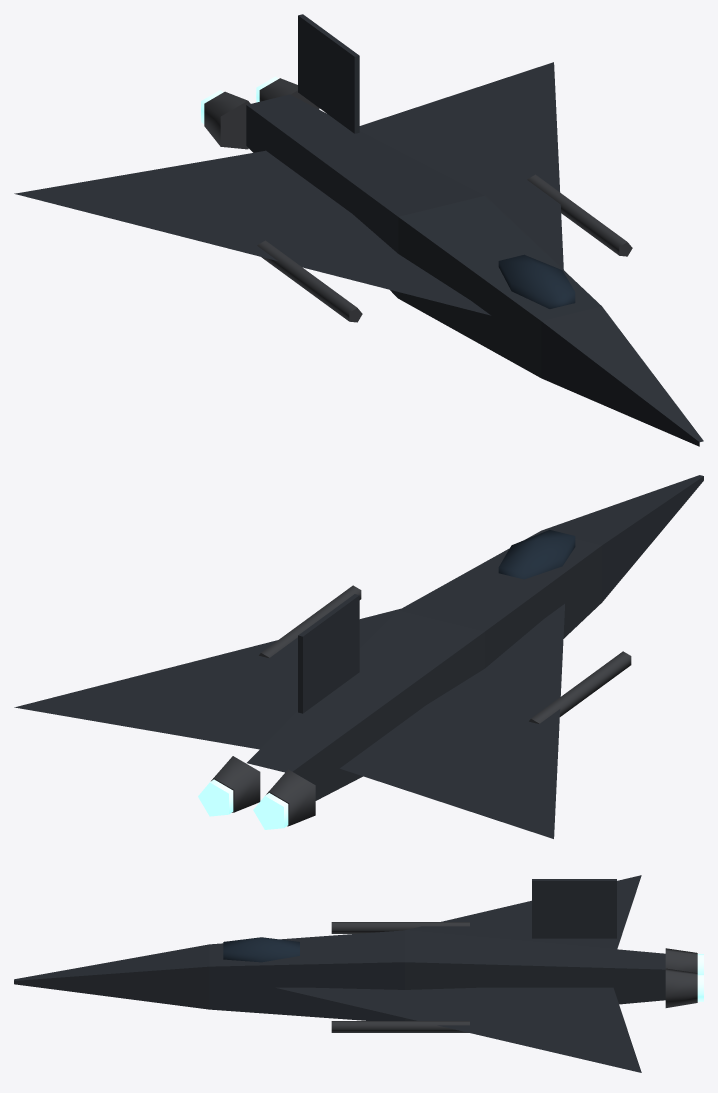
File: space_ship_interceptor_mk4_lod1.glb
3 views of the same model, one above another, from view 1: azimuth 30°, elevation 25°; view 2: azimuth 150°, elevation 25°; view 3: azimuth 270°, elevation 25° (orthographic). The views are drawn at different scales.
Visible parts, largest first — view 1: body, engine_0, gun_r, gun_l, engine_1; view 2: body, engine_1, engine_0, gun_r, gun_l; view 3: body, gun_l, engine_1, gun_r, engine_0.
Boxes of the visible parts, x1=… form: body: x1=14, y1=14, x2=703, y2=446; engine_0: x1=201, y1=90, x2=250, y2=149; gun_r: x1=257, y1=240, x2=362, y2=322; gun_l: x1=527, y1=174, x2=632, y2=256; engine_1: x1=256, y1=76, x2=319, y2=109; body: x1=14, y1=475, x2=703, y2=838; engine_1: x1=198, y1=756, x2=260, y2=816; engine_0: x1=253, y1=769, x2=315, y2=829; gun_r: x1=529, y1=651, x2=631, y2=723; gun_l: x1=259, y1=585, x2=361, y2=657; body: x1=14, y1=875, x2=665, y2=1072; gun_l: x1=331, y1=1021, x2=469, y2=1032; engine_1: x1=665, y1=968, x2=703, y2=1007; gun_r: x1=331, y1=922, x2=469, y2=933; engine_0: x1=665, y1=948, x2=703, y2=973.
Size of the model in its own units: 8.8 by 2.65 by 12.96.
